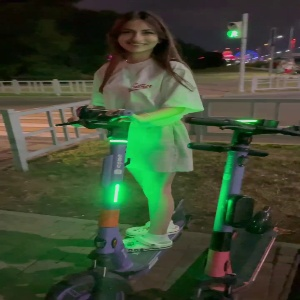human on a scooter: (42, 8, 204, 300)
